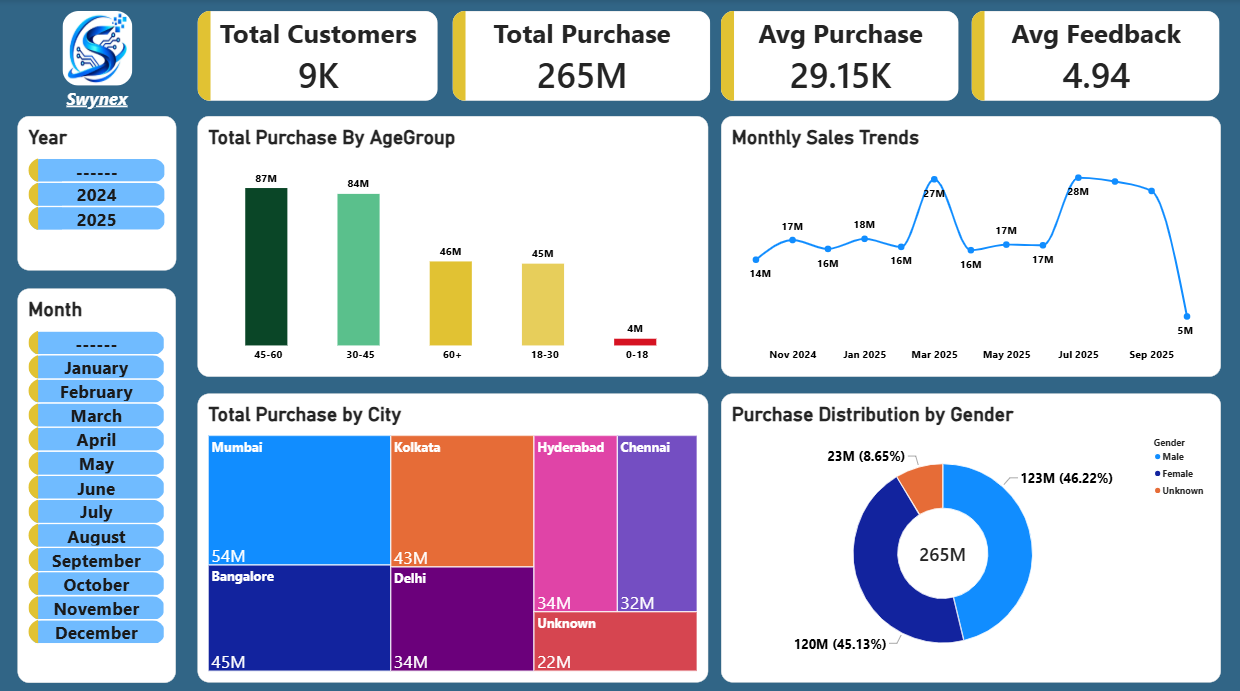

The dashboard page shown, as its layout file describes it:
{"tool":"powerbi","page":{"name":"Dashboard","canvas":[1920,1080],"ordinal":2},"visuals":[{"type":"image","box":[99.1,18.4,107.4,114.5],"z":0},{"type":"cardVisual","fields":{"Data":["customer_sales_clean_dataset (2).Total Customers"]},"box":[305.4,19.1,369.8,138.4],"z":1000},{"type":"cardVisual","fields":{"Data":["customer_sales_clean_dataset (2).Total Amounts"]},"box":[699.1,19.1,396.1,138.4],"z":2000},{"type":"cardVisual","fields":{"Data":["customer_sales_clean_dataset (2).Avg Purchase"]},"box":[1111.8,19.1,365,138.4],"z":3000},{"type":"cardVisual","fields":{"Data":["customer_sales_clean_dataset (2).Avg Feedback"]},"box":[1496,19.1,381.7,138.4],"z":4000},{"type":"clusteredColumnChart","title":"Total Purchase By AgeGroup","fields":{"Category":["customer_sales_clean_dataset (2).Age_Group"],"Y":["customer_sales_clean_dataset (2).Total Purchase"]},"box":[305.4,178.9,785,400.8],"z":5000},{"type":"lineChart","title":"Monthly Sales Trends ","fields":{"Category":["customer_sales_clean_dataset (2).Months.Variation.Date Hierarchy.Year","customer_sales_clean_dataset (2).Months.Variation.Date Hierarchy.Quarter","customer_sales_clean_dataset (2).Months.Variation.Date Hierarchy.Month","customer_sales_clean_dataset (2).Months.Variation.Date Hierarchy.Day"],"Y":["customer_sales_clean_dataset (2).Total Purchase"]},"box":[1111.8,178.9,768.3,400.8],"z":6000},{"type":"treemap","fields":{"Group":["customer_sales_clean_dataset (2).City"],"Values":["customer_sales_clean_dataset (2).Total Purchase"]},"box":[305.4,606,785,443.8],"z":7000},{"type":"donutChart","title":"Purchase Distribution by Gender ","fields":{"Category":["customer_sales_clean_dataset (2).Gender"],"Y":["customer_sales_clean_dataset (2).Total Purchase"]},"box":[1111.8,606,768.3,443.8],"z":8000},{"type":"listSlicer","fields":{"Values":["customer_sales_clean_dataset (2).Last_Purchase_Date.Variation.Date Hierarchy.Month"]},"box":[31,443.8,243.4,606],"z":9000},{"type":"listSlicer","fields":{"Values":["customer_sales_clean_dataset (2).Months.Variation.Date Hierarchy.Year"]},"box":[30,179.7,244.3,237.4],"z":10000},{"type":"textbox","box":[30,133.7,244.3,46.1],"z":10001}]}

Visuals, with their boxes in screenshot pixels (x1, y1, x2, y2), scaled from the page's 1920x1080 canvas onto the 1240x691 screenshot:
image: (x1=64, y1=12, x2=133, y2=85)
cardVisual - customer_sales_clean_dataset (2).Total Customers: (x1=197, y1=12, x2=436, y2=101)
cardVisual - customer_sales_clean_dataset (2).Total Amounts: (x1=452, y1=12, x2=707, y2=101)
cardVisual - customer_sales_clean_dataset (2).Avg Purchase: (x1=718, y1=12, x2=954, y2=101)
cardVisual - customer_sales_clean_dataset (2).Avg Feedback: (x1=966, y1=12, x2=1213, y2=101)
"Total Purchase By AgeGroup" clusteredColumnChart: (x1=197, y1=114, x2=704, y2=371)
"Monthly Sales Trends " lineChart: (x1=718, y1=114, x2=1214, y2=371)
treemap - customer_sales_clean_dataset (2).City x customer_sales_clean_dataset (2).Total Purchase: (x1=197, y1=388, x2=704, y2=672)
"Purchase Distribution by Gender " donutChart: (x1=718, y1=388, x2=1214, y2=672)
listSlicer - customer_sales_clean_dataset (2).Last_Purchase_Date.Variation.Date Hierarchy.Month: (x1=20, y1=284, x2=177, y2=672)
listSlicer - customer_sales_clean_dataset (2).Months.Variation.Date Hierarchy.Year: (x1=19, y1=115, x2=177, y2=267)
textbox: (x1=19, y1=86, x2=177, y2=115)
